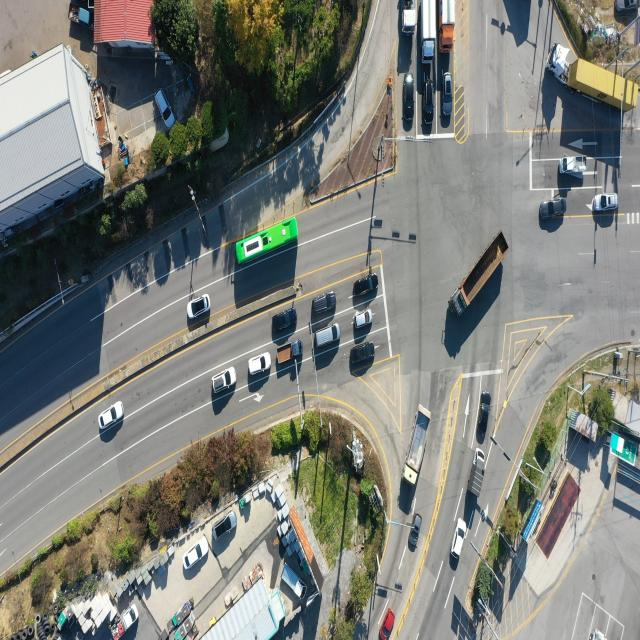car: (156, 89, 175, 130), (478, 393, 493, 443), (184, 536, 208, 566), (313, 322, 340, 348), (353, 274, 379, 300), (102, 404, 126, 432), (350, 342, 376, 367), (452, 517, 467, 559), (212, 367, 237, 392), (273, 306, 298, 331), (538, 199, 565, 222), (214, 511, 236, 539), (186, 296, 210, 321), (312, 293, 337, 316), (424, 74, 435, 126), (406, 71, 416, 127), (248, 351, 271, 375), (408, 514, 422, 552), (593, 192, 617, 212), (380, 609, 395, 640), (444, 75, 454, 121), (353, 308, 372, 330), (615, 0, 639, 12)
large_bus: (237, 215, 300, 265)
large_truck: (548, 45, 638, 114)
medium_truck: (455, 230, 509, 321), (404, 403, 434, 487), (420, 0, 440, 63), (437, 0, 455, 53), (404, 0, 418, 35)
small_truck: (470, 448, 490, 499), (112, 604, 140, 640), (281, 562, 305, 600), (560, 155, 588, 178), (276, 342, 301, 366), (68, 2, 90, 27)
